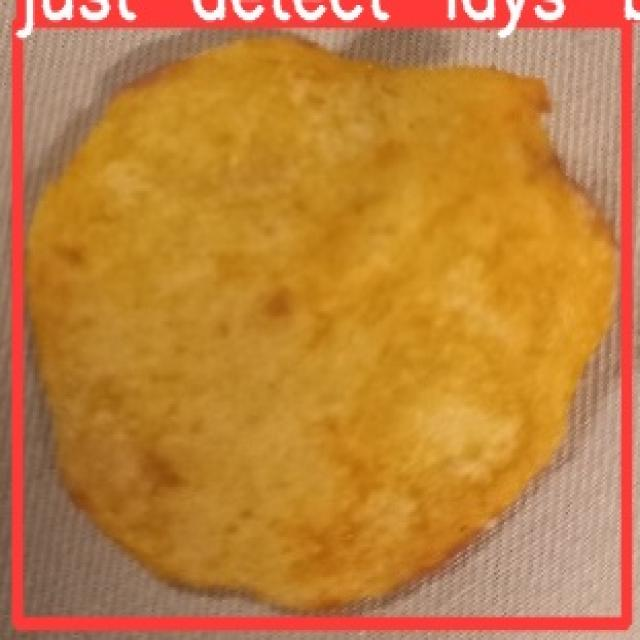Wet Waste: (34, 44, 617, 613)
